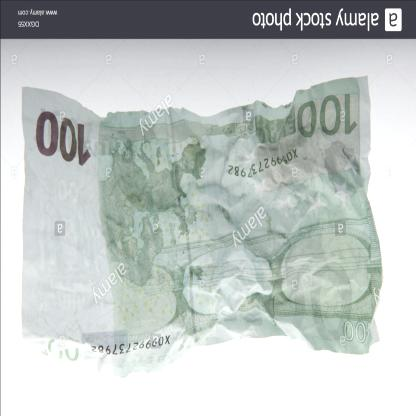euro_banknote: (21, 83, 383, 377)
